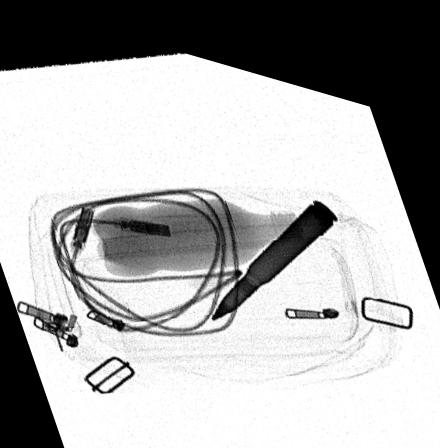Bullet: (208, 178, 339, 310)
